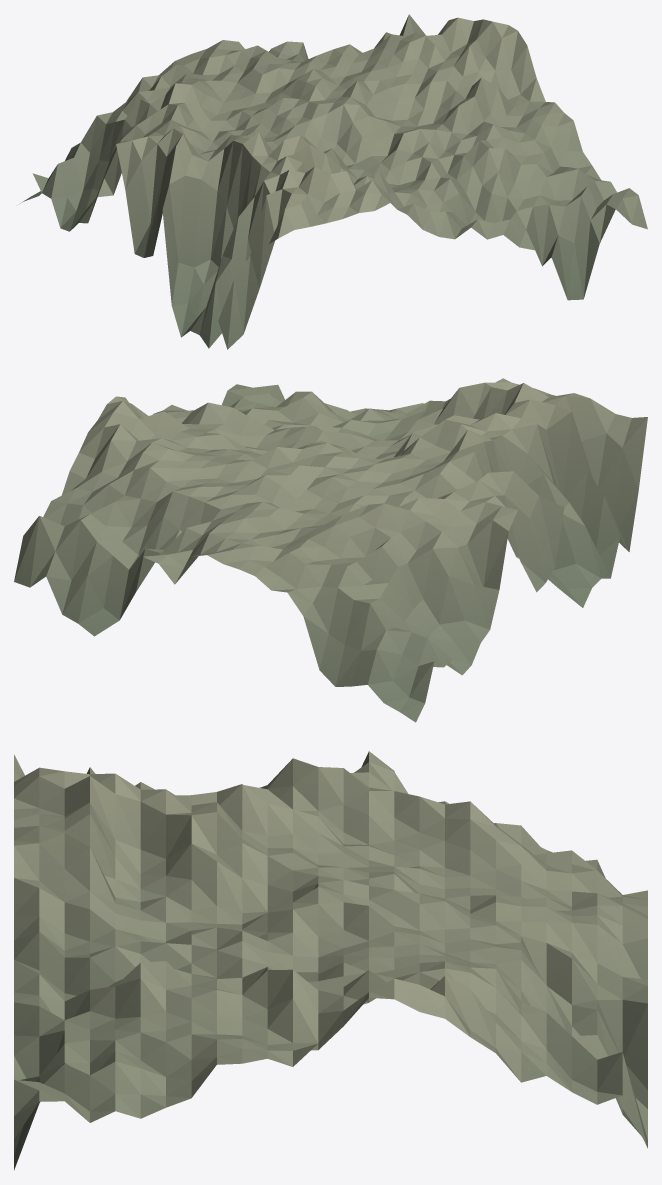
Rendered from tile_2_2.glb.
3 renders of one model, top to bottom at view 1: azimuth 30°, elevation 25°; view 2: azimuth 150°, elevation 25°; view 3: azimuth 270°, elevation 25°, orthographic. The views are drawn at different scales.
Parts seen in each view (by area): view 1: geometry_0; view 2: geometry_0; view 3: geometry_0.
Part boxes in pixels (box(x1,y1,x2,y2)): geometry_0: box(20, 14, 647, 349); geometry_0: box(14, 378, 647, 722); geometry_0: box(14, 751, 647, 1170).
Bounding box in the file's own units: 123 × 50.9 × 123.
